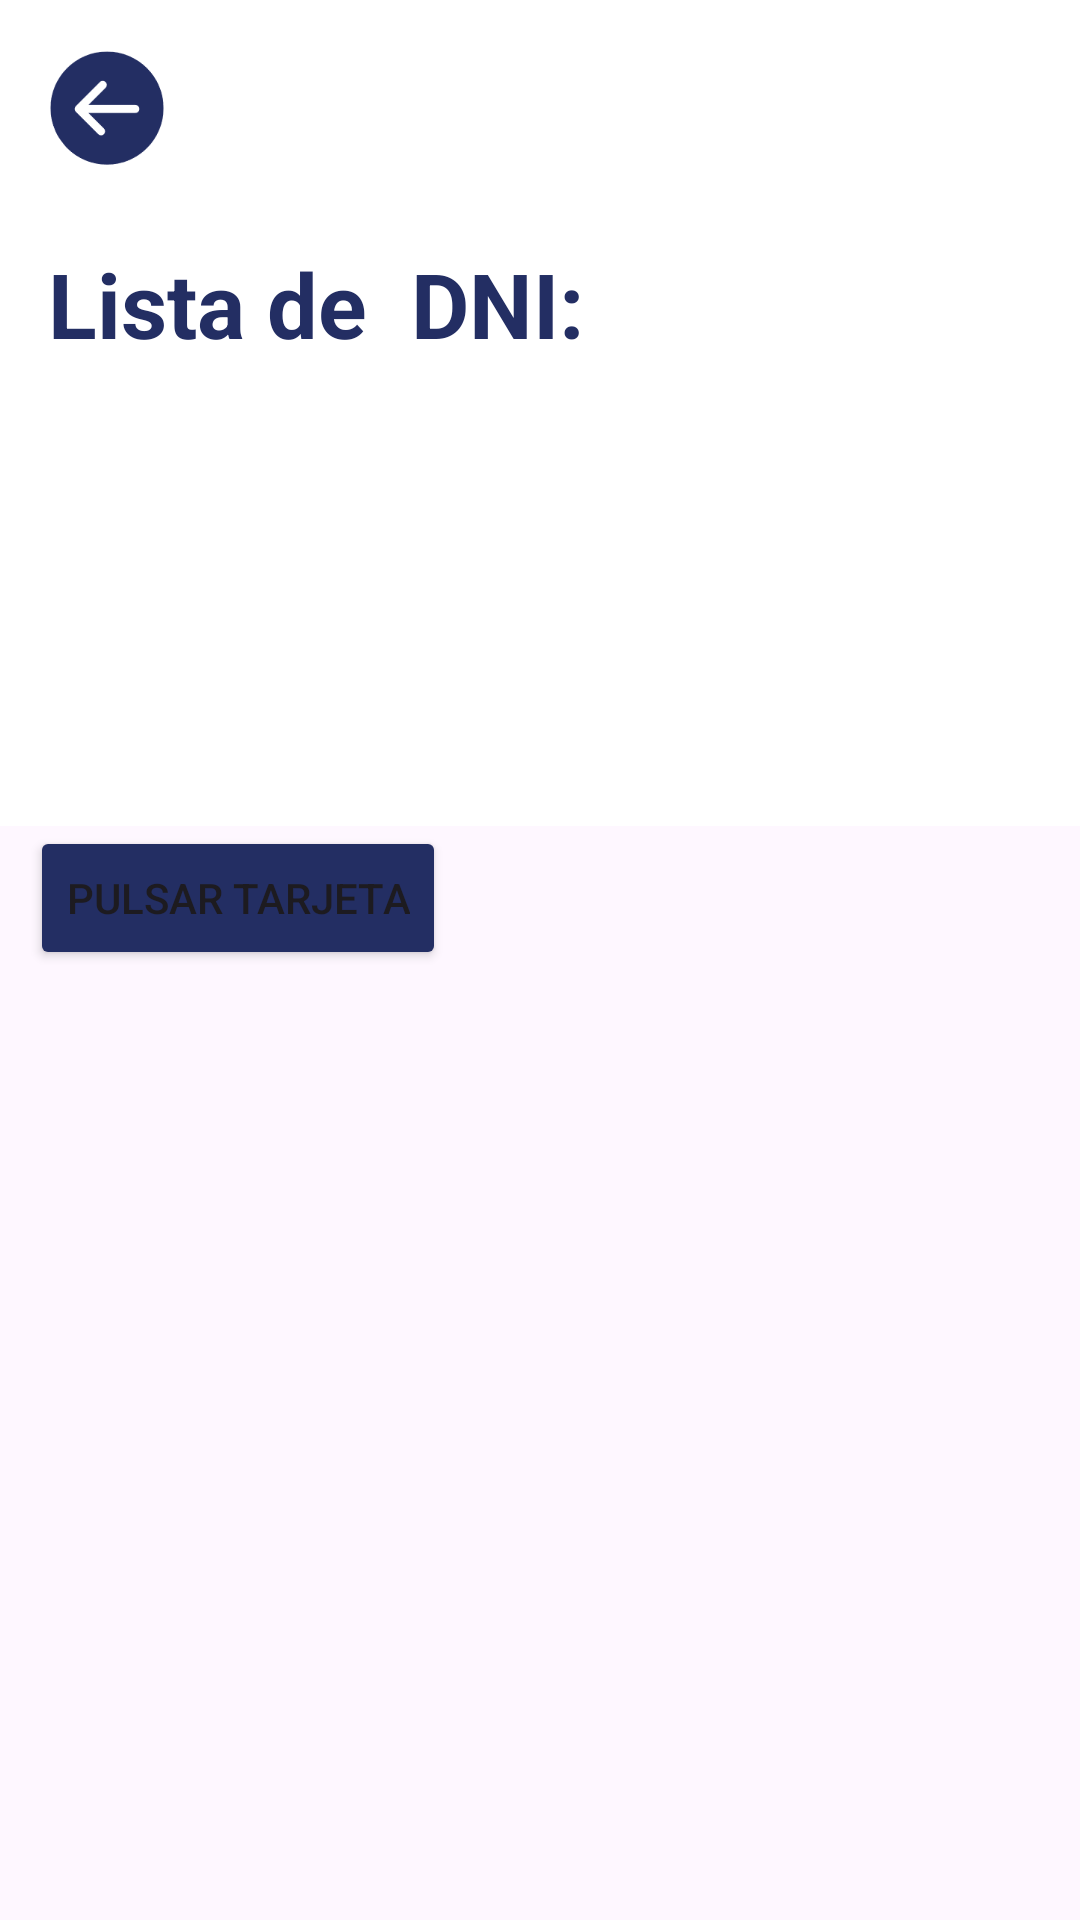

Icon bounding boxes for this 1080 × 1920 phone screenshot, format (x1, y1, x2, y2):
goback: (50, 51, 164, 165)
